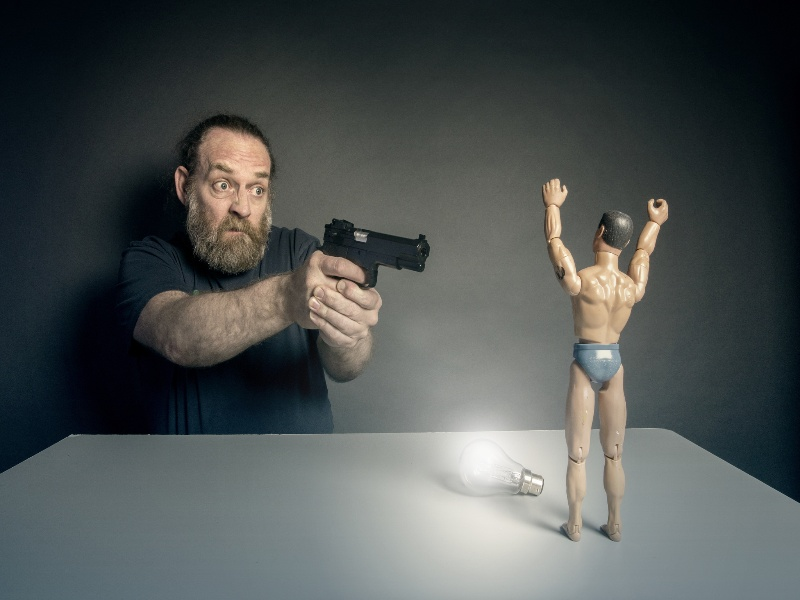person: (117, 113, 381, 433)
weapon: (321, 219, 431, 288)
